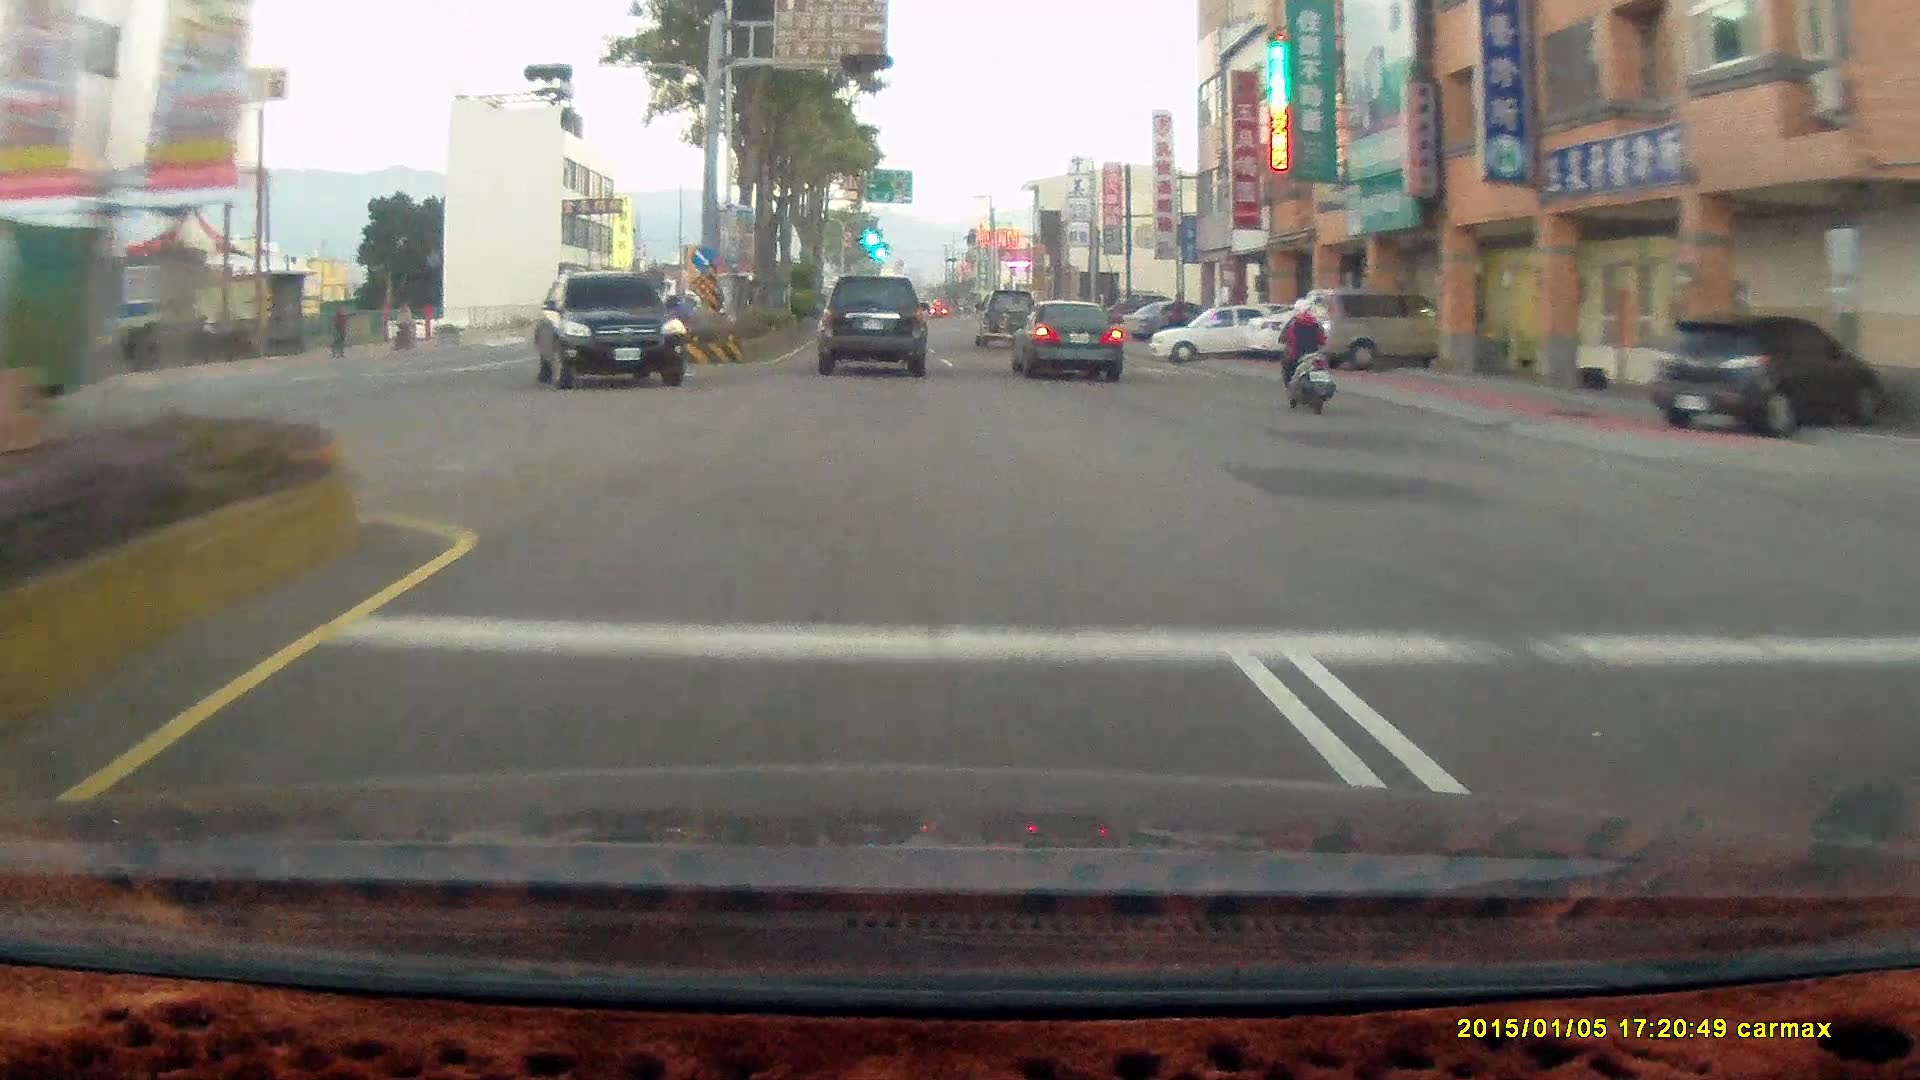pedestrian: (326, 307, 349, 358), (1167, 291, 1188, 347)
rider: (1264, 290, 1345, 419), (1273, 298, 1335, 415)
vehicle: (1653, 319, 1888, 435), (1654, 320, 1885, 433), (531, 275, 687, 394), (531, 268, 684, 387), (1297, 287, 1475, 368), (1291, 294, 1448, 376), (823, 274, 933, 378), (816, 276, 926, 379), (1247, 297, 1407, 366), (1008, 301, 1131, 385), (1154, 304, 1298, 372), (1007, 297, 1121, 380), (1147, 303, 1291, 362), (972, 290, 1040, 349), (1123, 301, 1214, 342)
